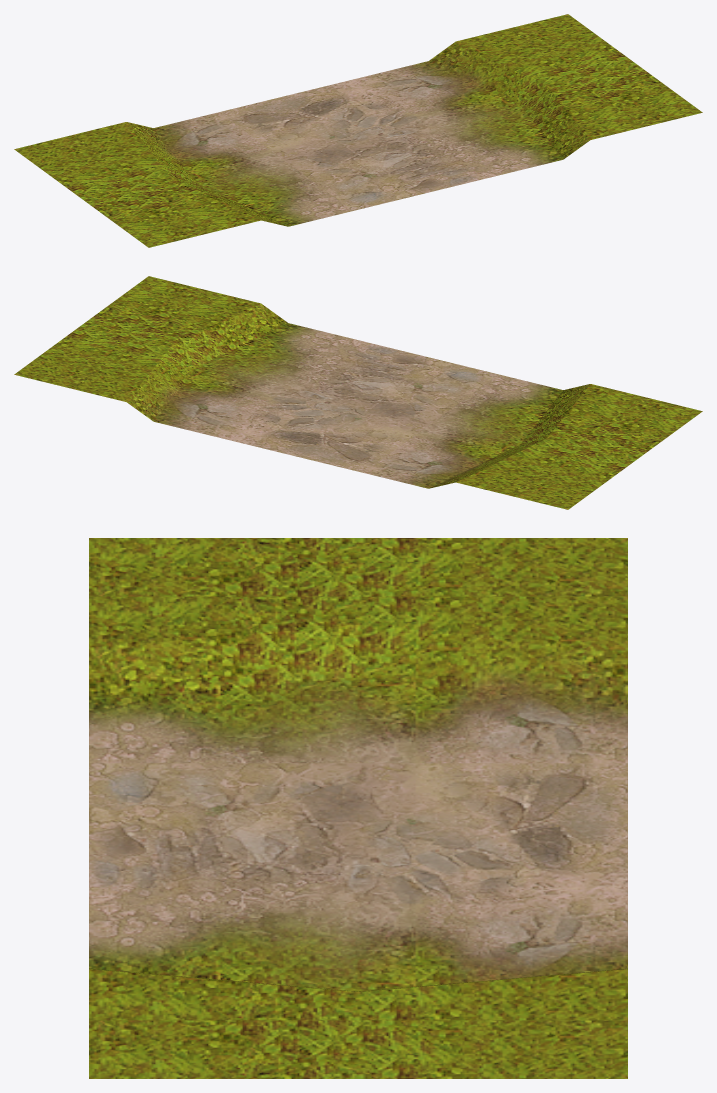
Rendered from FB_ShuLin_Dibiao.FBX.
3 views of the same model, one above another, from view 1: azimuth 30°, elevation 25°; view 2: azimuth 150°, elevation 25°; view 3: azimuth 270°, elevation 25° (orthographic). The views are drawn at different scales.
Visible parts, largest first — view 1: Plane08; view 2: Plane08; view 3: Plane08.
Boxes of the visible parts, x1,y1,x2,y2 form: Plane08: [14, 14, 702, 247]; Plane08: [14, 276, 702, 509]; Plane08: [89, 538, 627, 1078].
Size of the model in its own units: 23.74 by 0.5301 by 10.
